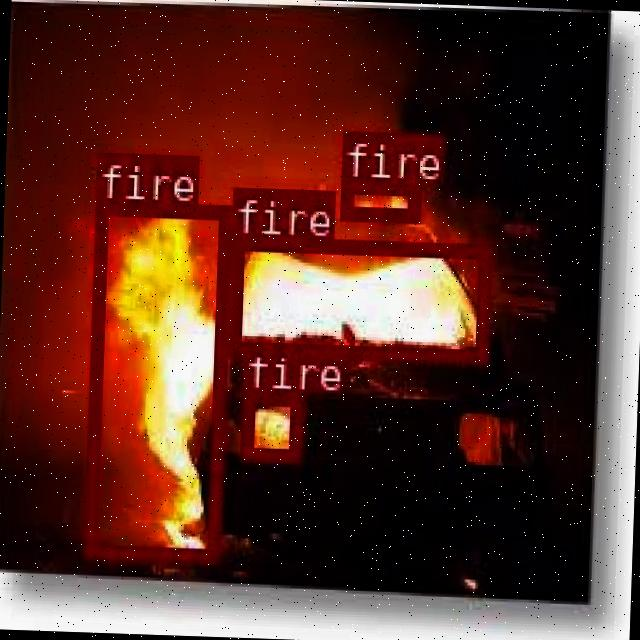fire: (81, 198, 228, 560), (228, 234, 488, 360), (238, 389, 300, 460), (338, 176, 418, 218)
